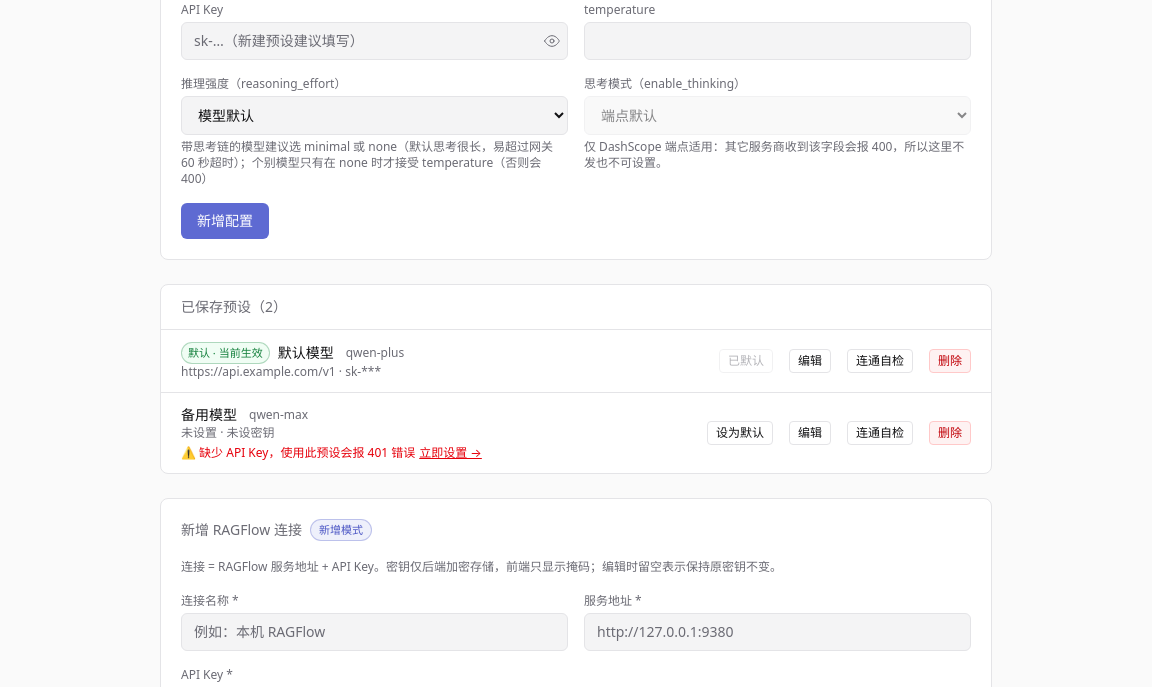
Test: ConfigPage › 连通自检分别展示成功与失败文案
The width and height of the screenshot is (1152, 687).
(page scrolled)
Expected: the text "默认模型" is shown, [278,343,334,362]
Click the button "连通自检" in the row of "qwen-plus": coordinates (880, 361) [847,349,913,373]
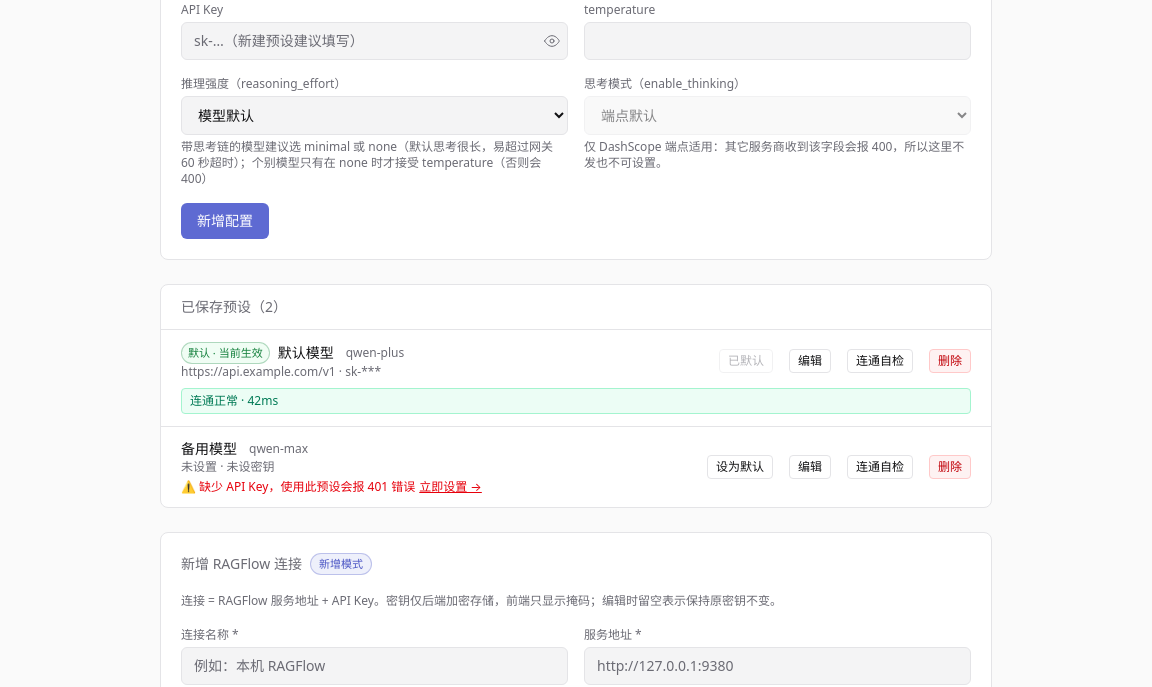
Expected: the text "连通正常 · 42ms" is shown, [181,388,971,414]
Click the button "连通自检" in the row of "qwen-plus": coordinates (880, 361) [847,349,913,373]
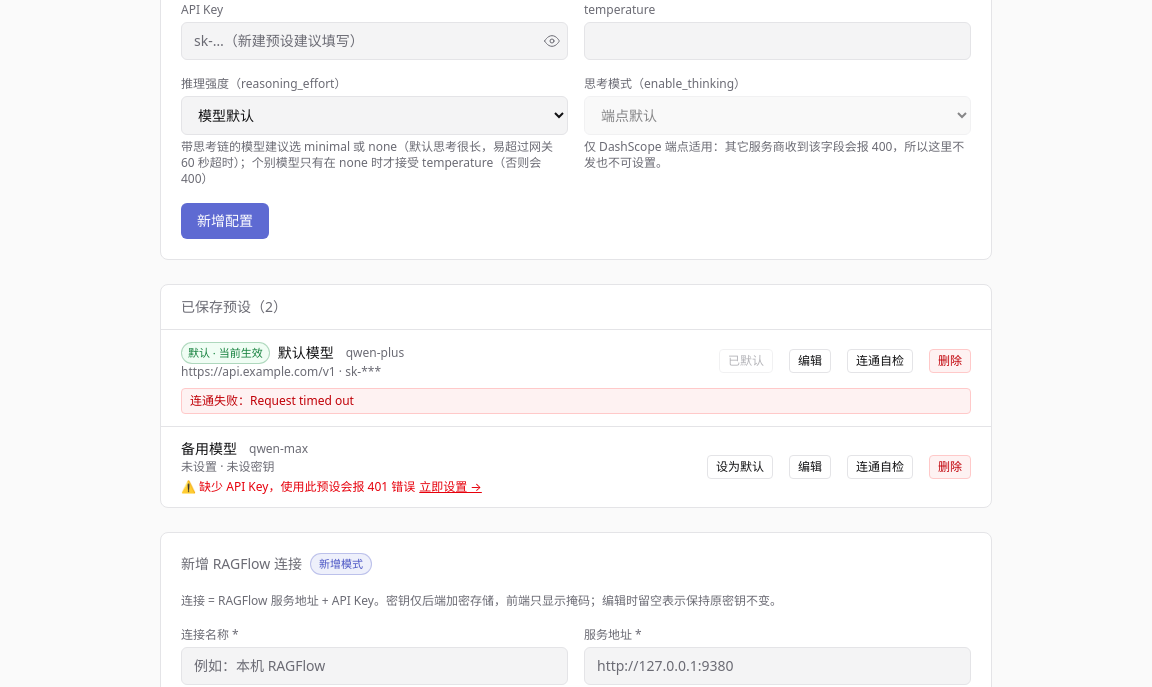
Expected: the text "连通失败：Request timed out" is shown, [181,388,971,414]
